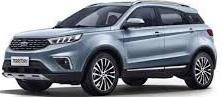SUV: (3, 2, 217, 95)
